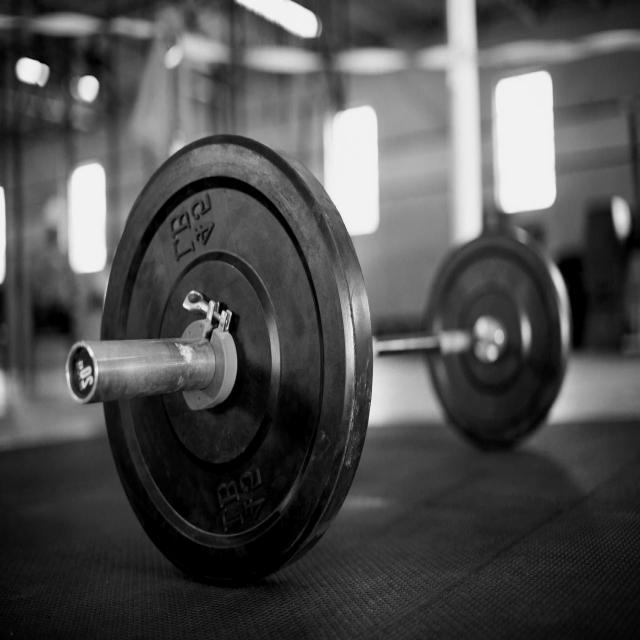barbell_plate_side: (66, 131, 193, 585), (447, 131, 573, 585)
